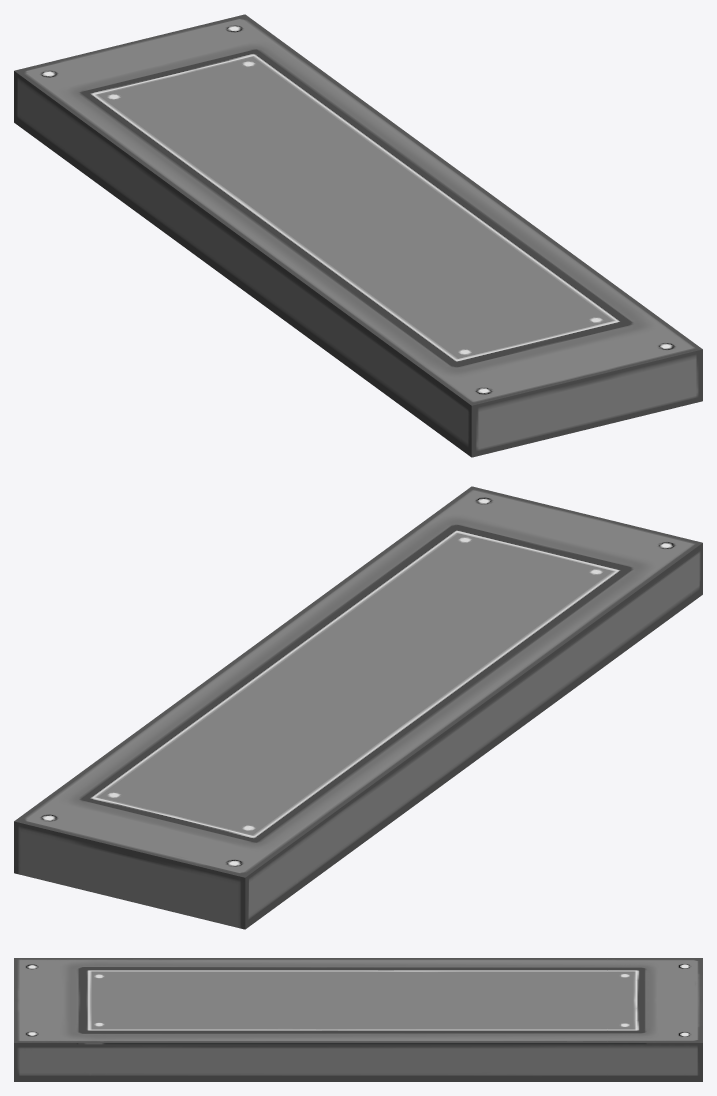
The model's file is space_thinpath1.gltf.
The picture shows the model from 3 angles, top to bottom: view 1: azimuth 30°, elevation 25°; view 2: azimuth 150°, elevation 25°; view 3: azimuth 270°, elevation 25°; orthographic projection. The views are drawn at different scales.
Visible parts, largest first — view 1: space_thinpath1_glb; view 2: space_thinpath1_glb; view 3: space_thinpath1_glb.
Part boxes in pixels (x1=…): space_thinpath1_glb: x1=14, y1=14, x2=702, y2=457; space_thinpath1_glb: x1=14, y1=486, x2=702, y2=929; space_thinpath1_glb: x1=14, y1=958, x2=702, y2=1081.
Size of what is drawn, in the model's own units: 1.17 by 0.25 by 4.
Materials: 1 (1 with a texture image).
